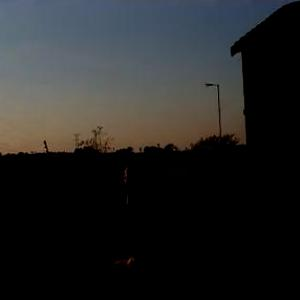follow: (96, 151, 186, 299)
